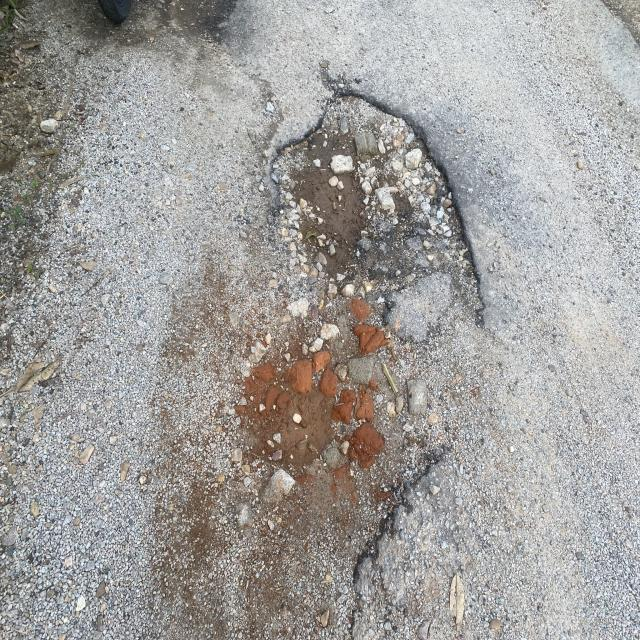Pothole: (283, 44, 504, 616)
